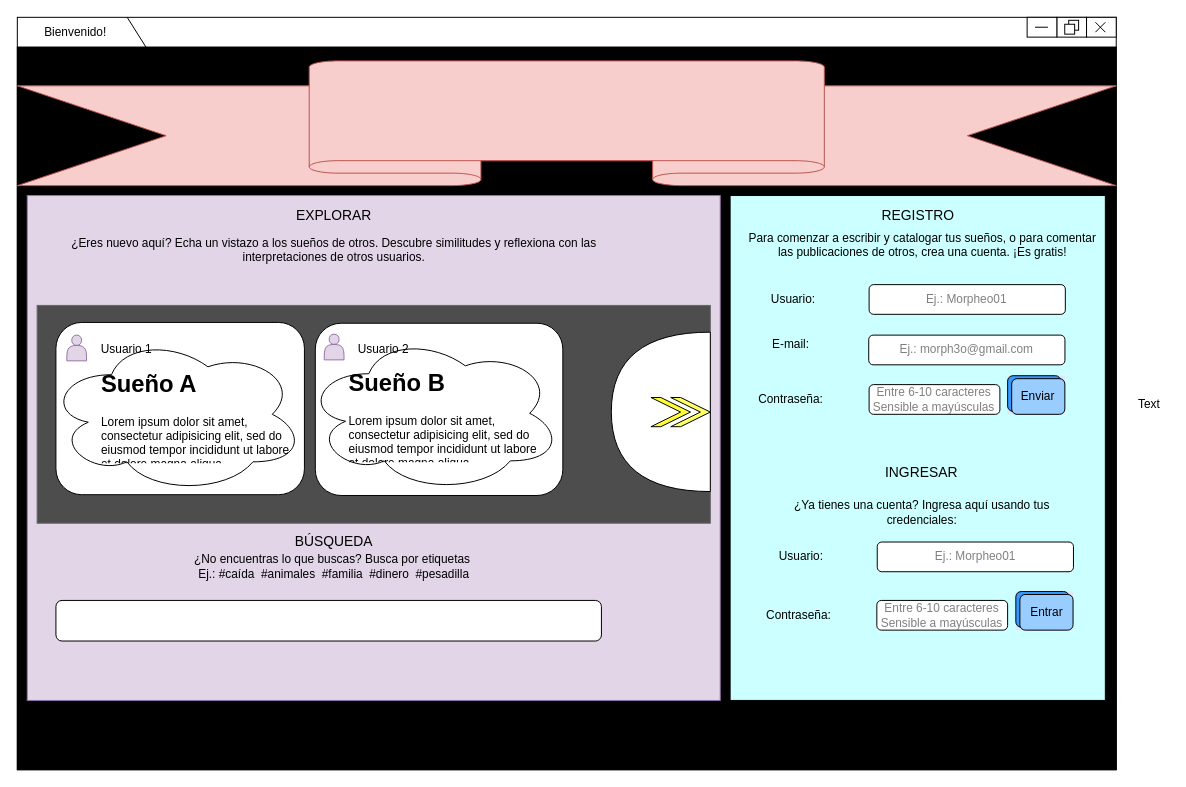
Image size: 1186x787. Some labels were removed from this diagram. The centre of each missing label's shape, as x and y in pixels:
"Buscar..." belongs at (x=328, y=620).
"¡Bienvenido a Collective Dreams!" belongs at (x=566, y=123).
